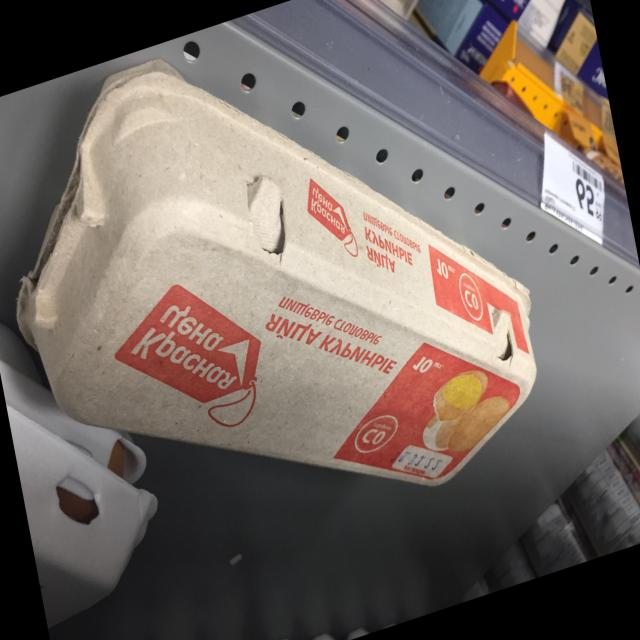organic waste: (0, 0, 584, 608), (385, 0, 524, 110), (421, 0, 567, 61)
